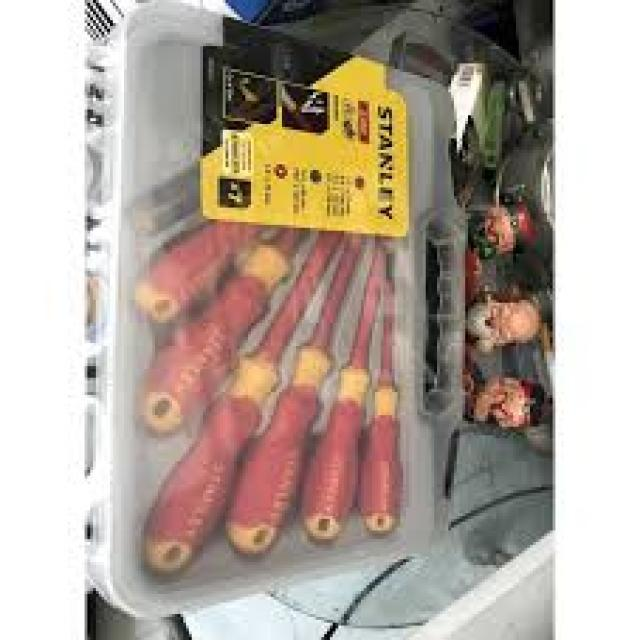screwdriver: (352, 243, 406, 538)
